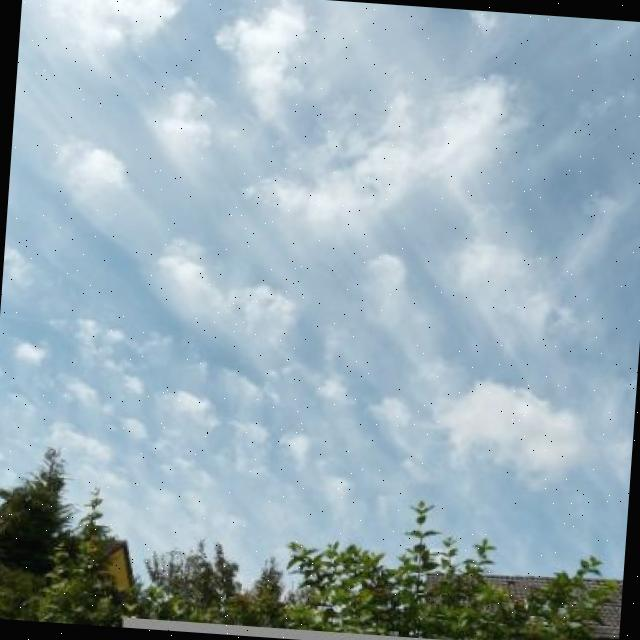Ac: (1, 7, 640, 494)
